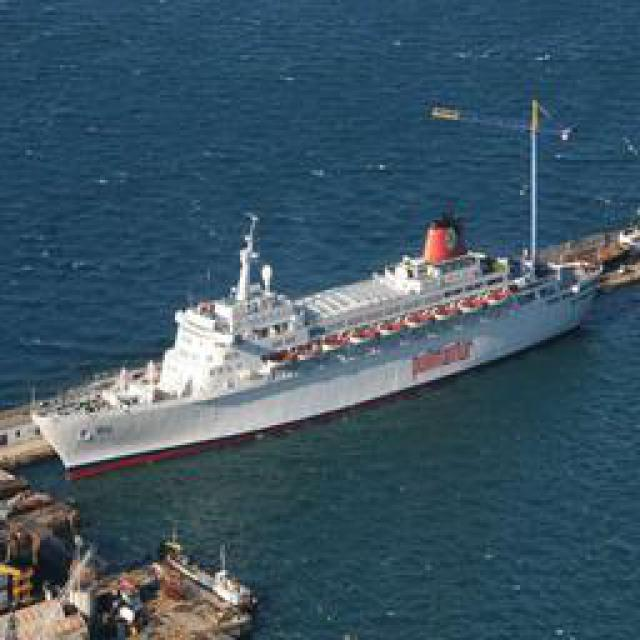Ship: (33, 195, 608, 475)
